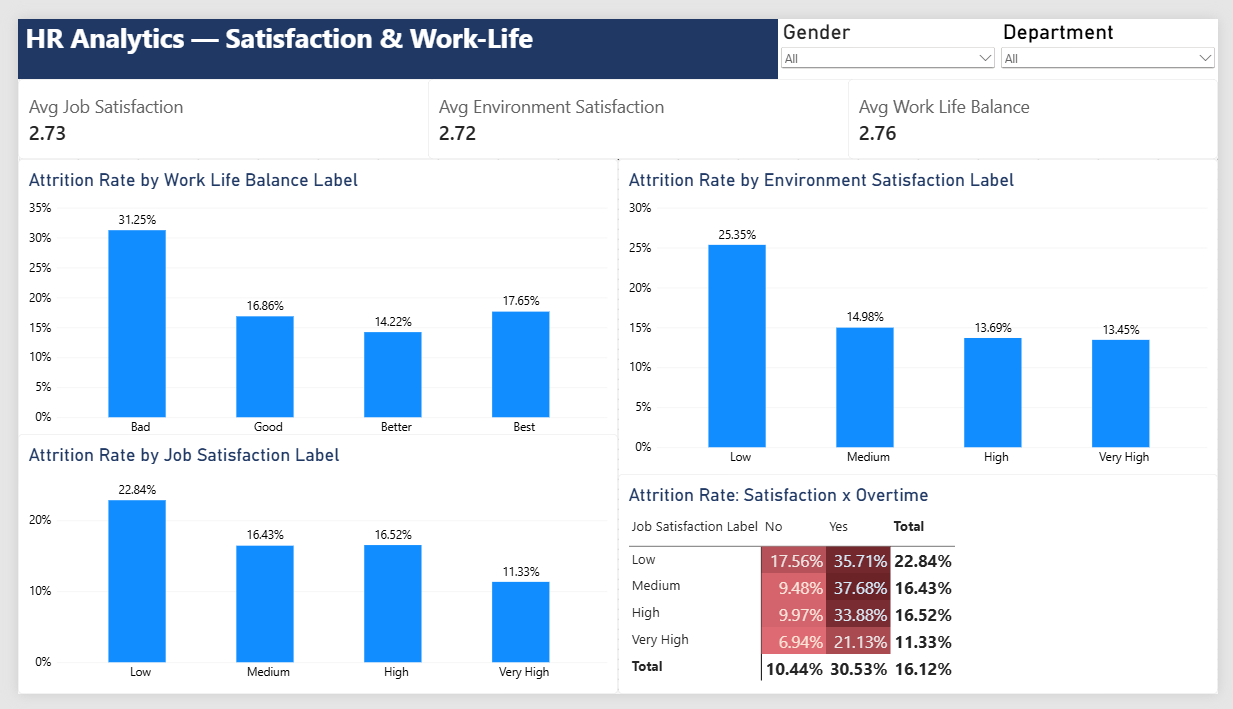

Layout of this report page (visuals, bound fields, positions):
{"tool":"powerbi","page":{"name":"Satisfaction & Work-Life","canvas":[1920,1080],"ordinal":2},"visuals":[{"type":"textbox","box":[0,0,1760,96],"z":0},{"type":"slicer","fields":{"Values":["HR_Data.Gender"]},"box":[1216,0,352,112],"z":1000},{"type":"slicer","fields":{"Values":["HR_Data.Department"]},"box":[1568,0,352,112],"z":2000},{"type":"cardVisual","fields":{"Data":["_Measures.Avg Job Satisfaction"]},"box":[0,96,672,128],"z":3000},{"type":"cardVisual","fields":{"Data":["_Measures.Avg Environment Satisfaction"]},"box":[656,96,688,128],"z":4000},{"type":"cardVisual","fields":{"Data":["_Measures.Avg Work Life Balance"]},"box":[1328,96,592,128],"z":5000},{"type":"clusteredColumnChart","title":"Attrition Rate by Work Life Balance Label","fields":{"Category":["HR_Data.Work Life Balance Label"],"Y":["_Measures.Attrition Rate"]},"box":[0,224,960,464],"z":6000},{"type":"clusteredColumnChart","title":"Attrition Rate by Environment Satisfaction Label","fields":{"Category":["HR_Data.Environment Satisfaction Label"],"Y":["_Measures.Attrition Rate"]},"box":[960,224,960,512],"z":7000},{"type":"clusteredColumnChart","title":"Attrition Rate by Job Satisfaction Label","fields":{"Category":["HR_Data.Job Satisfaction Label"],"Y":["_Measures.Attrition Rate"]},"box":[0,664,960,416],"z":8000},{"type":"pivotTable","title":"Attrition Rate: Satisfaction x Overtime","fields":{"Columns":["HR_Data.OverTime"],"Rows":["HR_Data.Job Satisfaction Label"],"Values":["_Measures.Attrition Rate"]},"box":[960,728,960,352],"z":9000}]}

Visuals, with their boxes in screenshot pixels (x1, y1, x2, y2), scaled from the page's 1920x1080 canvas onto the 1233x709 screenshot:
textbox: 0,0,1130,63
slicer - HR_Data.Gender: 781,0,1007,74
slicer - HR_Data.Department: 1007,0,1232,74
cardVisual - _Measures.Avg Job Satisfaction: 0,63,432,147
cardVisual - _Measures.Avg Environment Satisfaction: 421,63,863,147
cardVisual - _Measures.Avg Work Life Balance: 853,63,1232,147
"Attrition Rate by Work Life Balance Label" clusteredColumnChart: 0,147,616,452
"Attrition Rate by Environment Satisfaction Label" clusteredColumnChart: 616,147,1232,483
"Attrition Rate by Job Satisfaction Label" clusteredColumnChart: 0,436,616,708
"Attrition Rate: Satisfaction x Overtime" pivotTable: 616,478,1232,708
